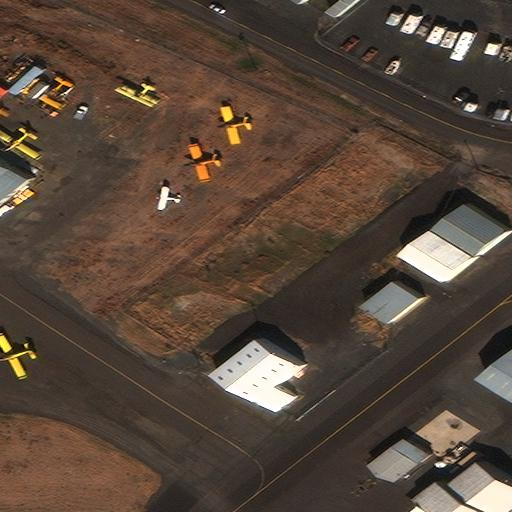Medium Civil Transport: (0, 337, 33, 380), (0, 130, 37, 160)
Small Civil Transport: (184, 145, 219, 182), (217, 107, 250, 144), (114, 84, 151, 107), (154, 187, 181, 209)
